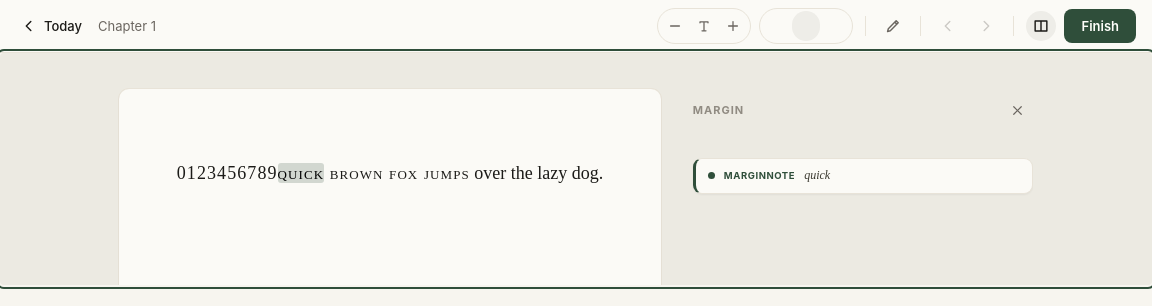
Test: TextReader Companion Margin › paints an anchored note as an inline highlight and a margin card
Expected: the element with class "tl-hl" reads "quick", [278, 163, 324, 183]
Click the button with class "tl-kmark". click: coordinates (759, 175)
box: [693, 158, 1033, 194]
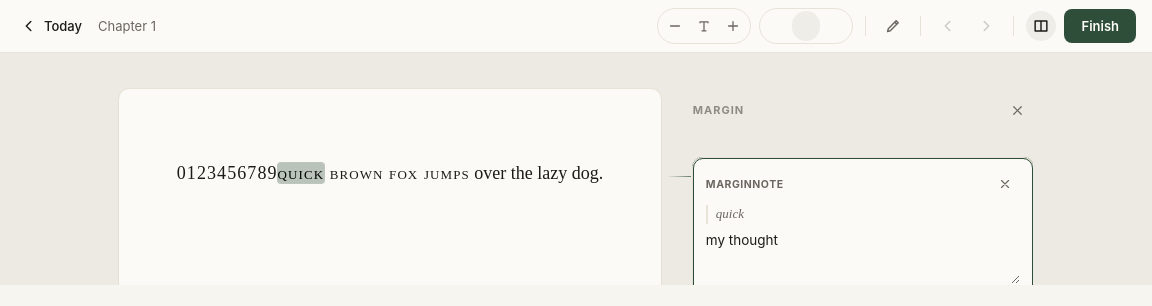
Expected: the text "quick" below "MarginNote" is shown, [716, 206, 744, 221]
Now the text box showing "my thought" is shown, box [706, 230, 1020, 284]
